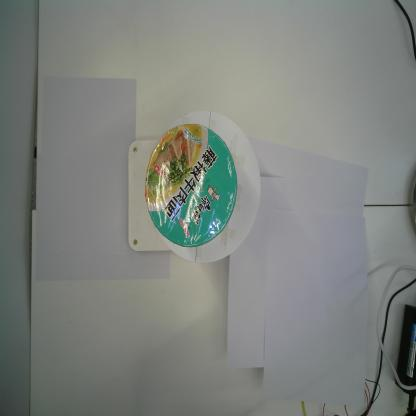Instant Noodles: (144, 123, 238, 248)
